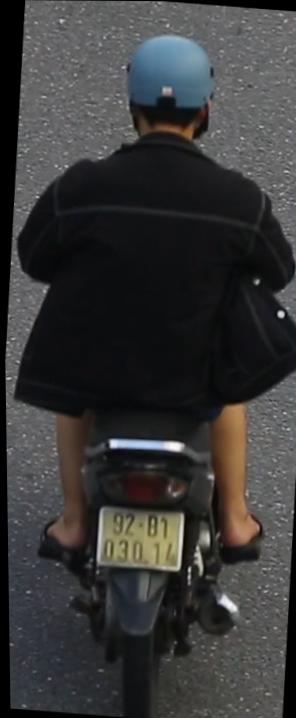LP: (84, 498, 190, 577)
helmet: (115, 25, 225, 167)
